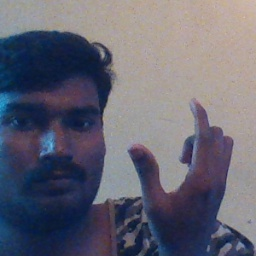U: (124, 95, 236, 227)
